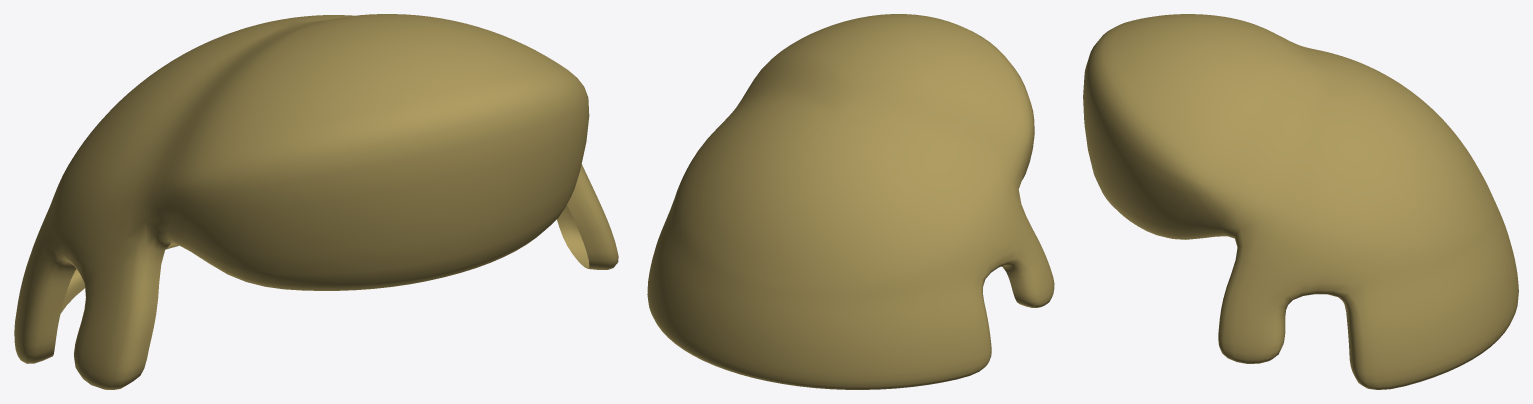
Rendered from Male_Hair3.fbx.
3 renders of one model, left to right at view 1: azimuth 30°, elevation 25°; view 2: azimuth 150°, elevation 25°; view 3: azimuth 270°, elevation 25°, orthographic. The views are drawn at different scales.
Visible parts, largest first — view 1: Hair_Short_Smooth; view 2: Hair_Short_Smooth; view 3: Hair_Short_Smooth.
Boxes of the visible parts, bbox=[...] form: Hair_Short_Smooth: bbox=[14, 14, 618, 389]; Hair_Short_Smooth: bbox=[647, 14, 1054, 389]; Hair_Short_Smooth: bbox=[1083, 14, 1518, 389].
Size of the model in its own units: 1.42 by 0.9172 by 1.35.
